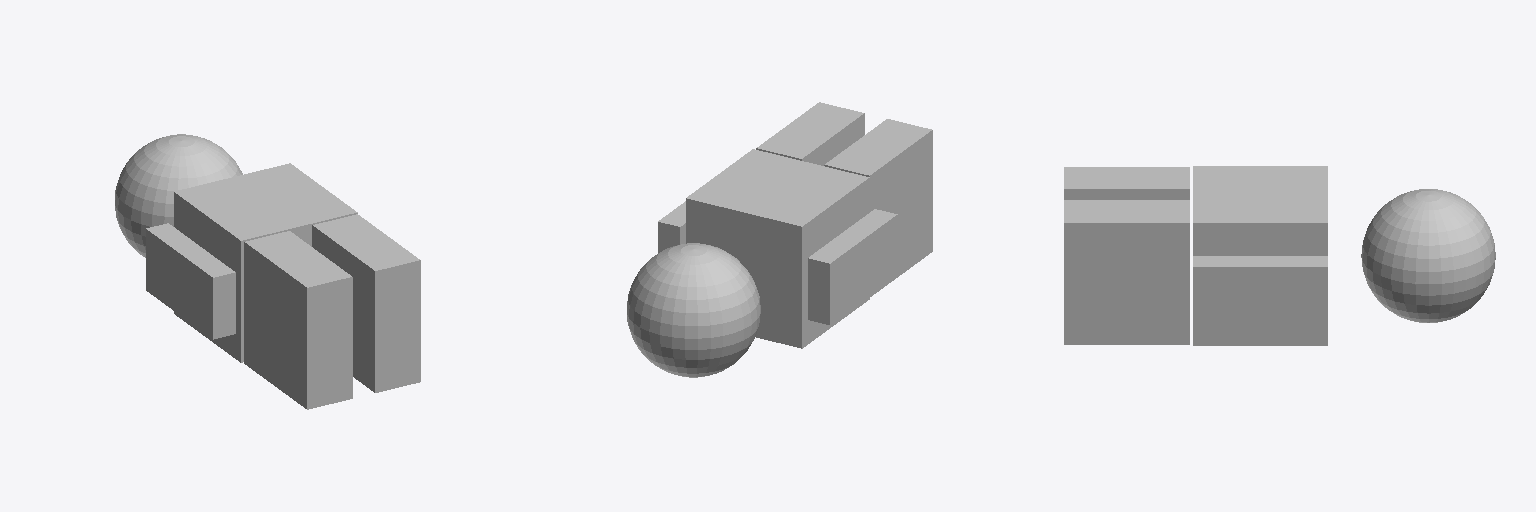
Rendered from sporty_robot_animation_000012.obj.
3 views of the same model, side by side, from view 1: azimuth 30°, elevation 25°; view 2: azimuth 150°, elevation 25°; view 3: azimuth 270°, elevation 25° (orthographic).
Visible parts, largest first — view 1: Cube.002, Cube.001_Cube.005, Cube, Sphere.001, Cube.004; view 2: Cube, Sphere.001, Cube.002, Cube.004, Cube.001_Cube.005, Cube.003; view 3: Cube.001_Cube.005, Cube, Sphere.001, Cube.003, Cube.002.
Boxes of the visible parts, <box> form: Cube.002: <box>244,231,352,409</box>; Cube.001_Cube.005: <box>312,214,420,392</box>; Cube: <box>174,163,357,362</box>; Sphere.001: <box>115,134,242,257</box>; Cube.004: <box>146,223,235,339</box>; Cube: <box>686,149,869,348</box>; Sphere.001: <box>627,243,760,377</box>; Cube.002: <box>824,119,932,296</box>; Cube.004: <box>808,209,897,324</box>; Cube.001_Cube.005: <box>756,102,864,165</box>; Cube.003: <box>658,201,685,252</box>; Cube.001_Cube.005: <box>1064,200,1189,344</box>; Cube: <box>1193,166,1327,345</box>; Sphere.001: <box>1361,189,1495,322</box>; Cube.003: <box>1193,256,1327,328</box>; Cube.002: <box>1064,167,1189,199</box>.
Size of the model in its own units: 0.76 by 0.514 by 1.65.